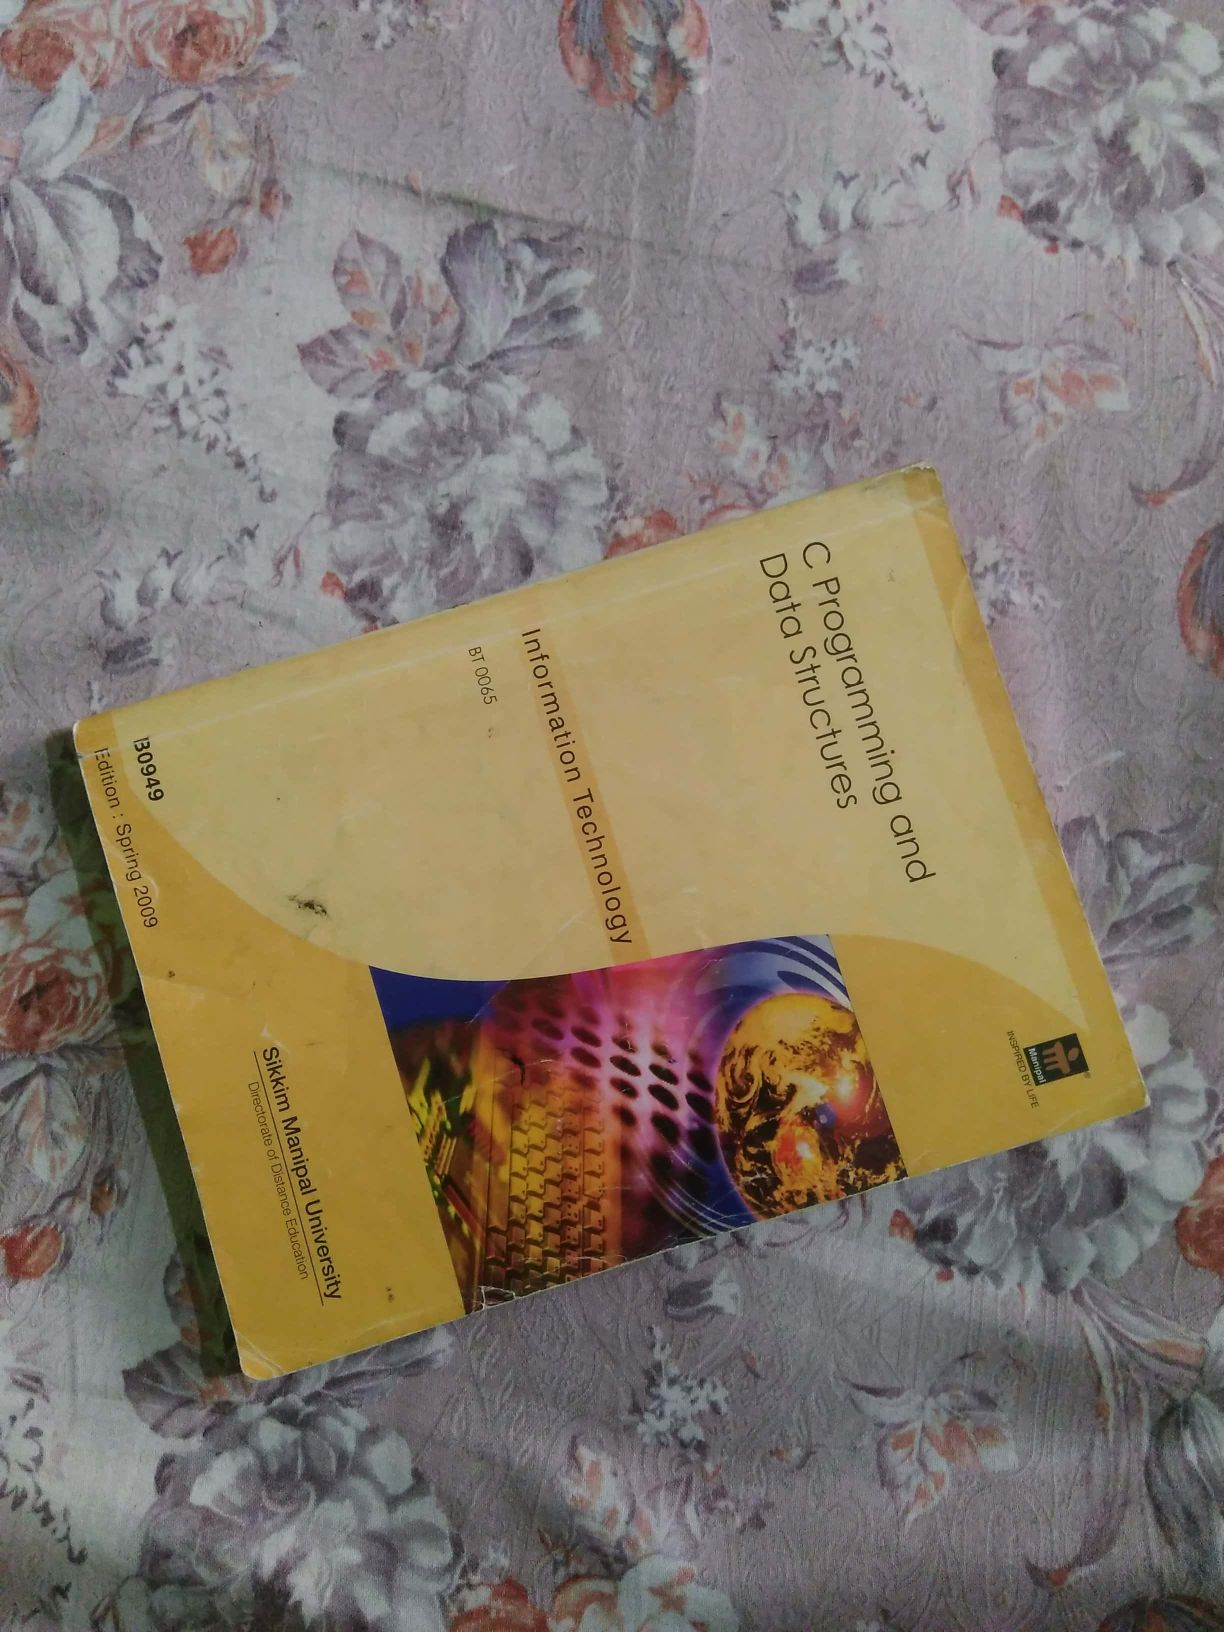clang: (122, 493, 1176, 1390)
